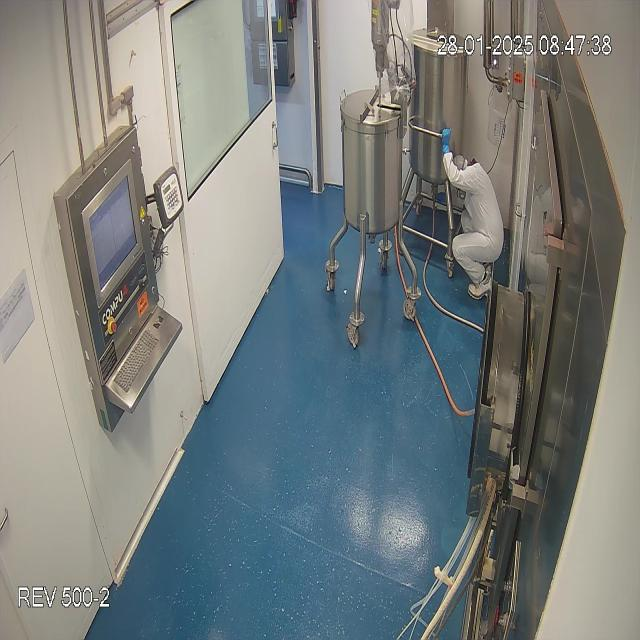bota: (461, 263, 495, 302)
pessoa: (439, 149, 508, 303)
touca: (452, 152, 470, 176)
